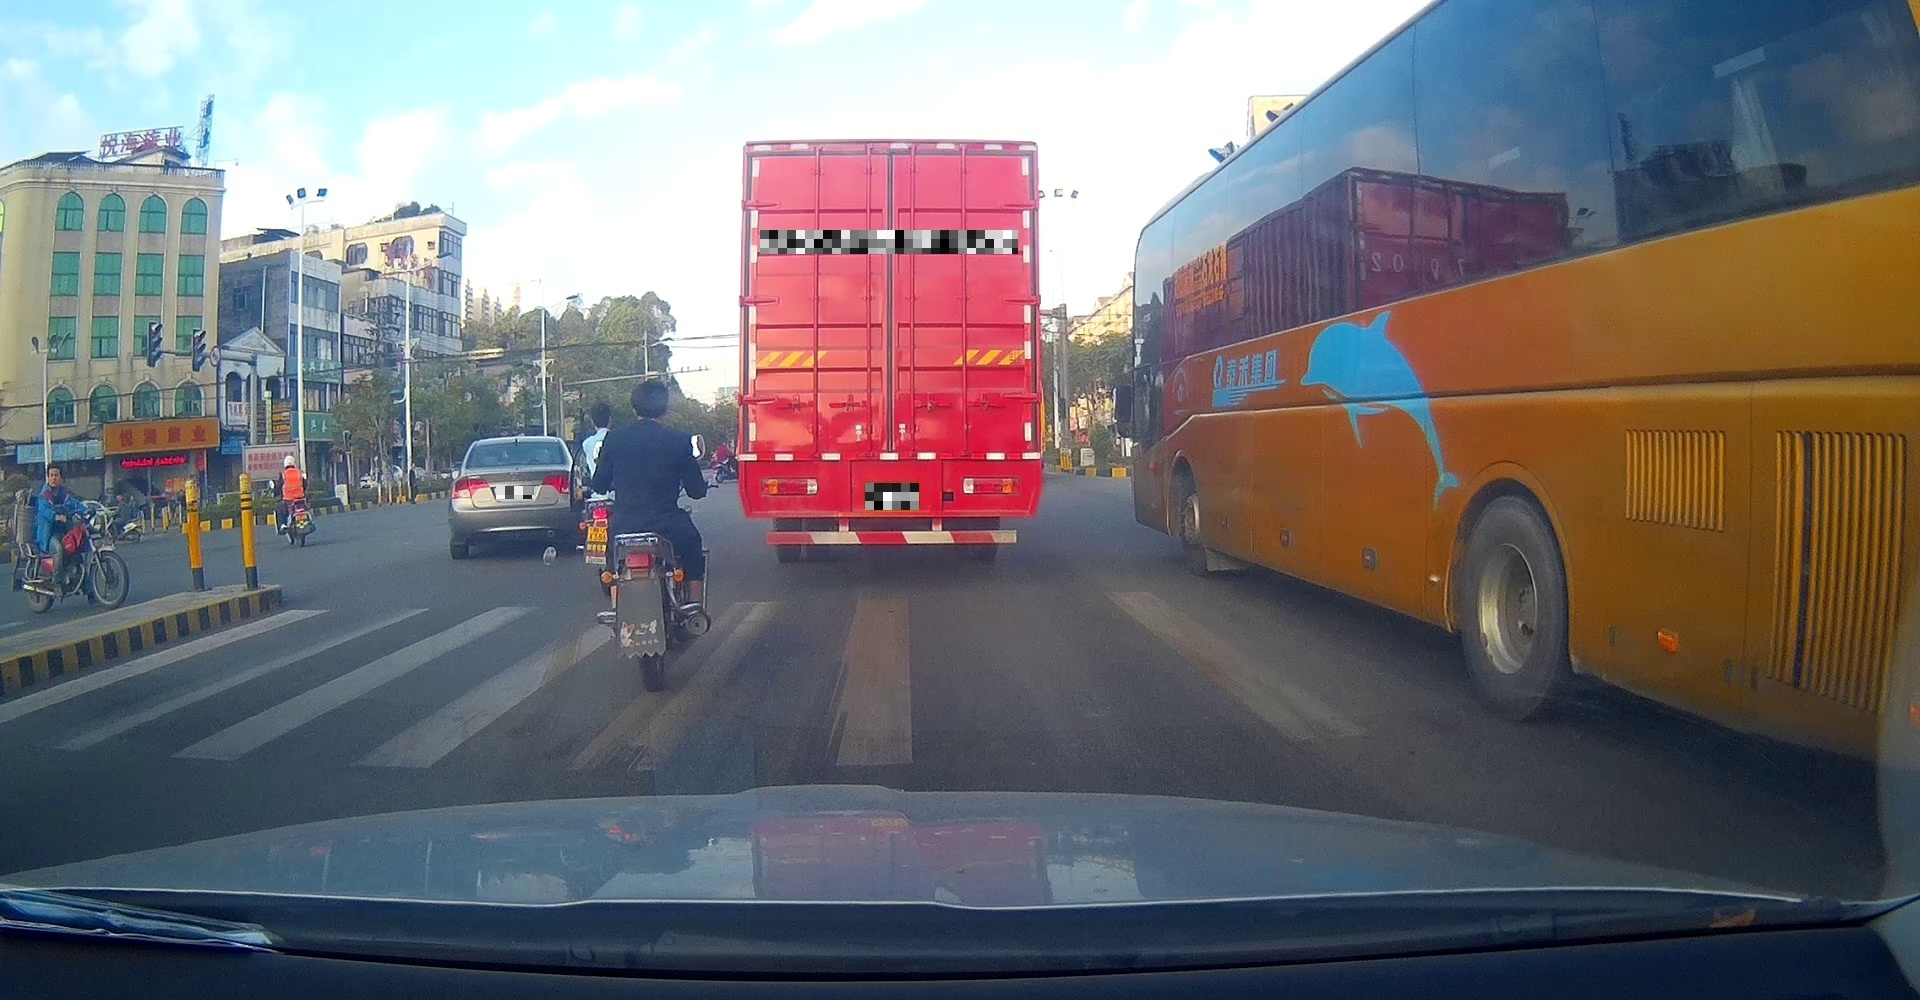L_light: (759, 478, 818, 495), (450, 477, 490, 499)
R_light: (963, 477, 1018, 495), (541, 475, 575, 494)
T_light: (874, 145, 912, 156), (509, 439, 523, 445)
day-left: (447, 437, 585, 560)
day-no: (735, 138, 1043, 561)
plate_1: (497, 486, 535, 499)
plate_2: (759, 230, 1018, 254)
plate_3: (865, 484, 919, 510)
